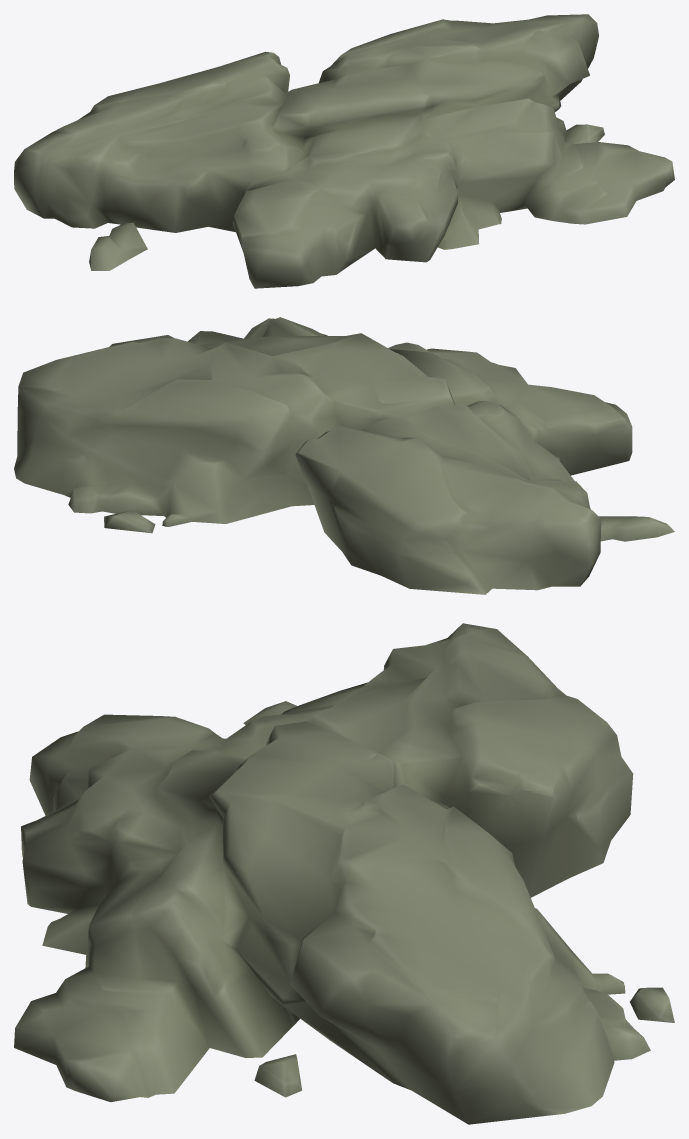
Rendered from bigFlatRock.fbx.
3 views of the same model, one above another, from view 1: azimuth 30°, elevation 25°; view 2: azimuth 150°, elevation 25°; view 3: azimuth 270°, elevation 25° (orthographic). The views are drawn at different scales.
Visible parts, largest first — view 1: bigflatrock_lowP; view 2: bigflatrock_lowP; view 3: bigflatrock_lowP.
Part boxes in pixels (<box>): bigflatrock_lowP: <box>14,14,674,288</box>; bigflatrock_lowP: <box>14,317,674,594</box>; bigflatrock_lowP: <box>14,623,674,1124</box>.
Size of the model in its own units: 1804 by 325 by 1194.
1 material, 1 textured.
